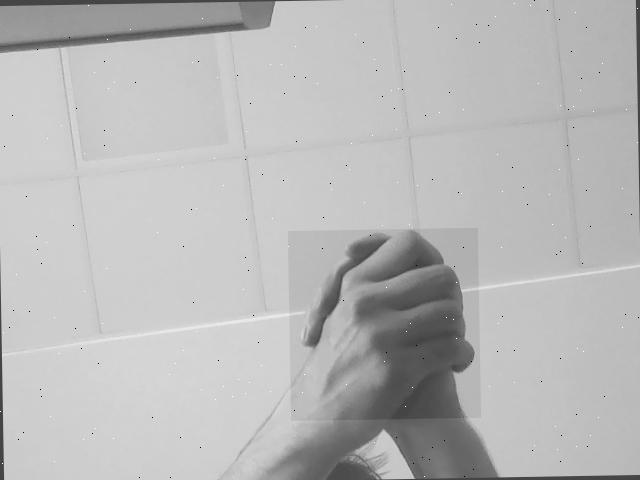friend: (288, 228, 482, 420)
